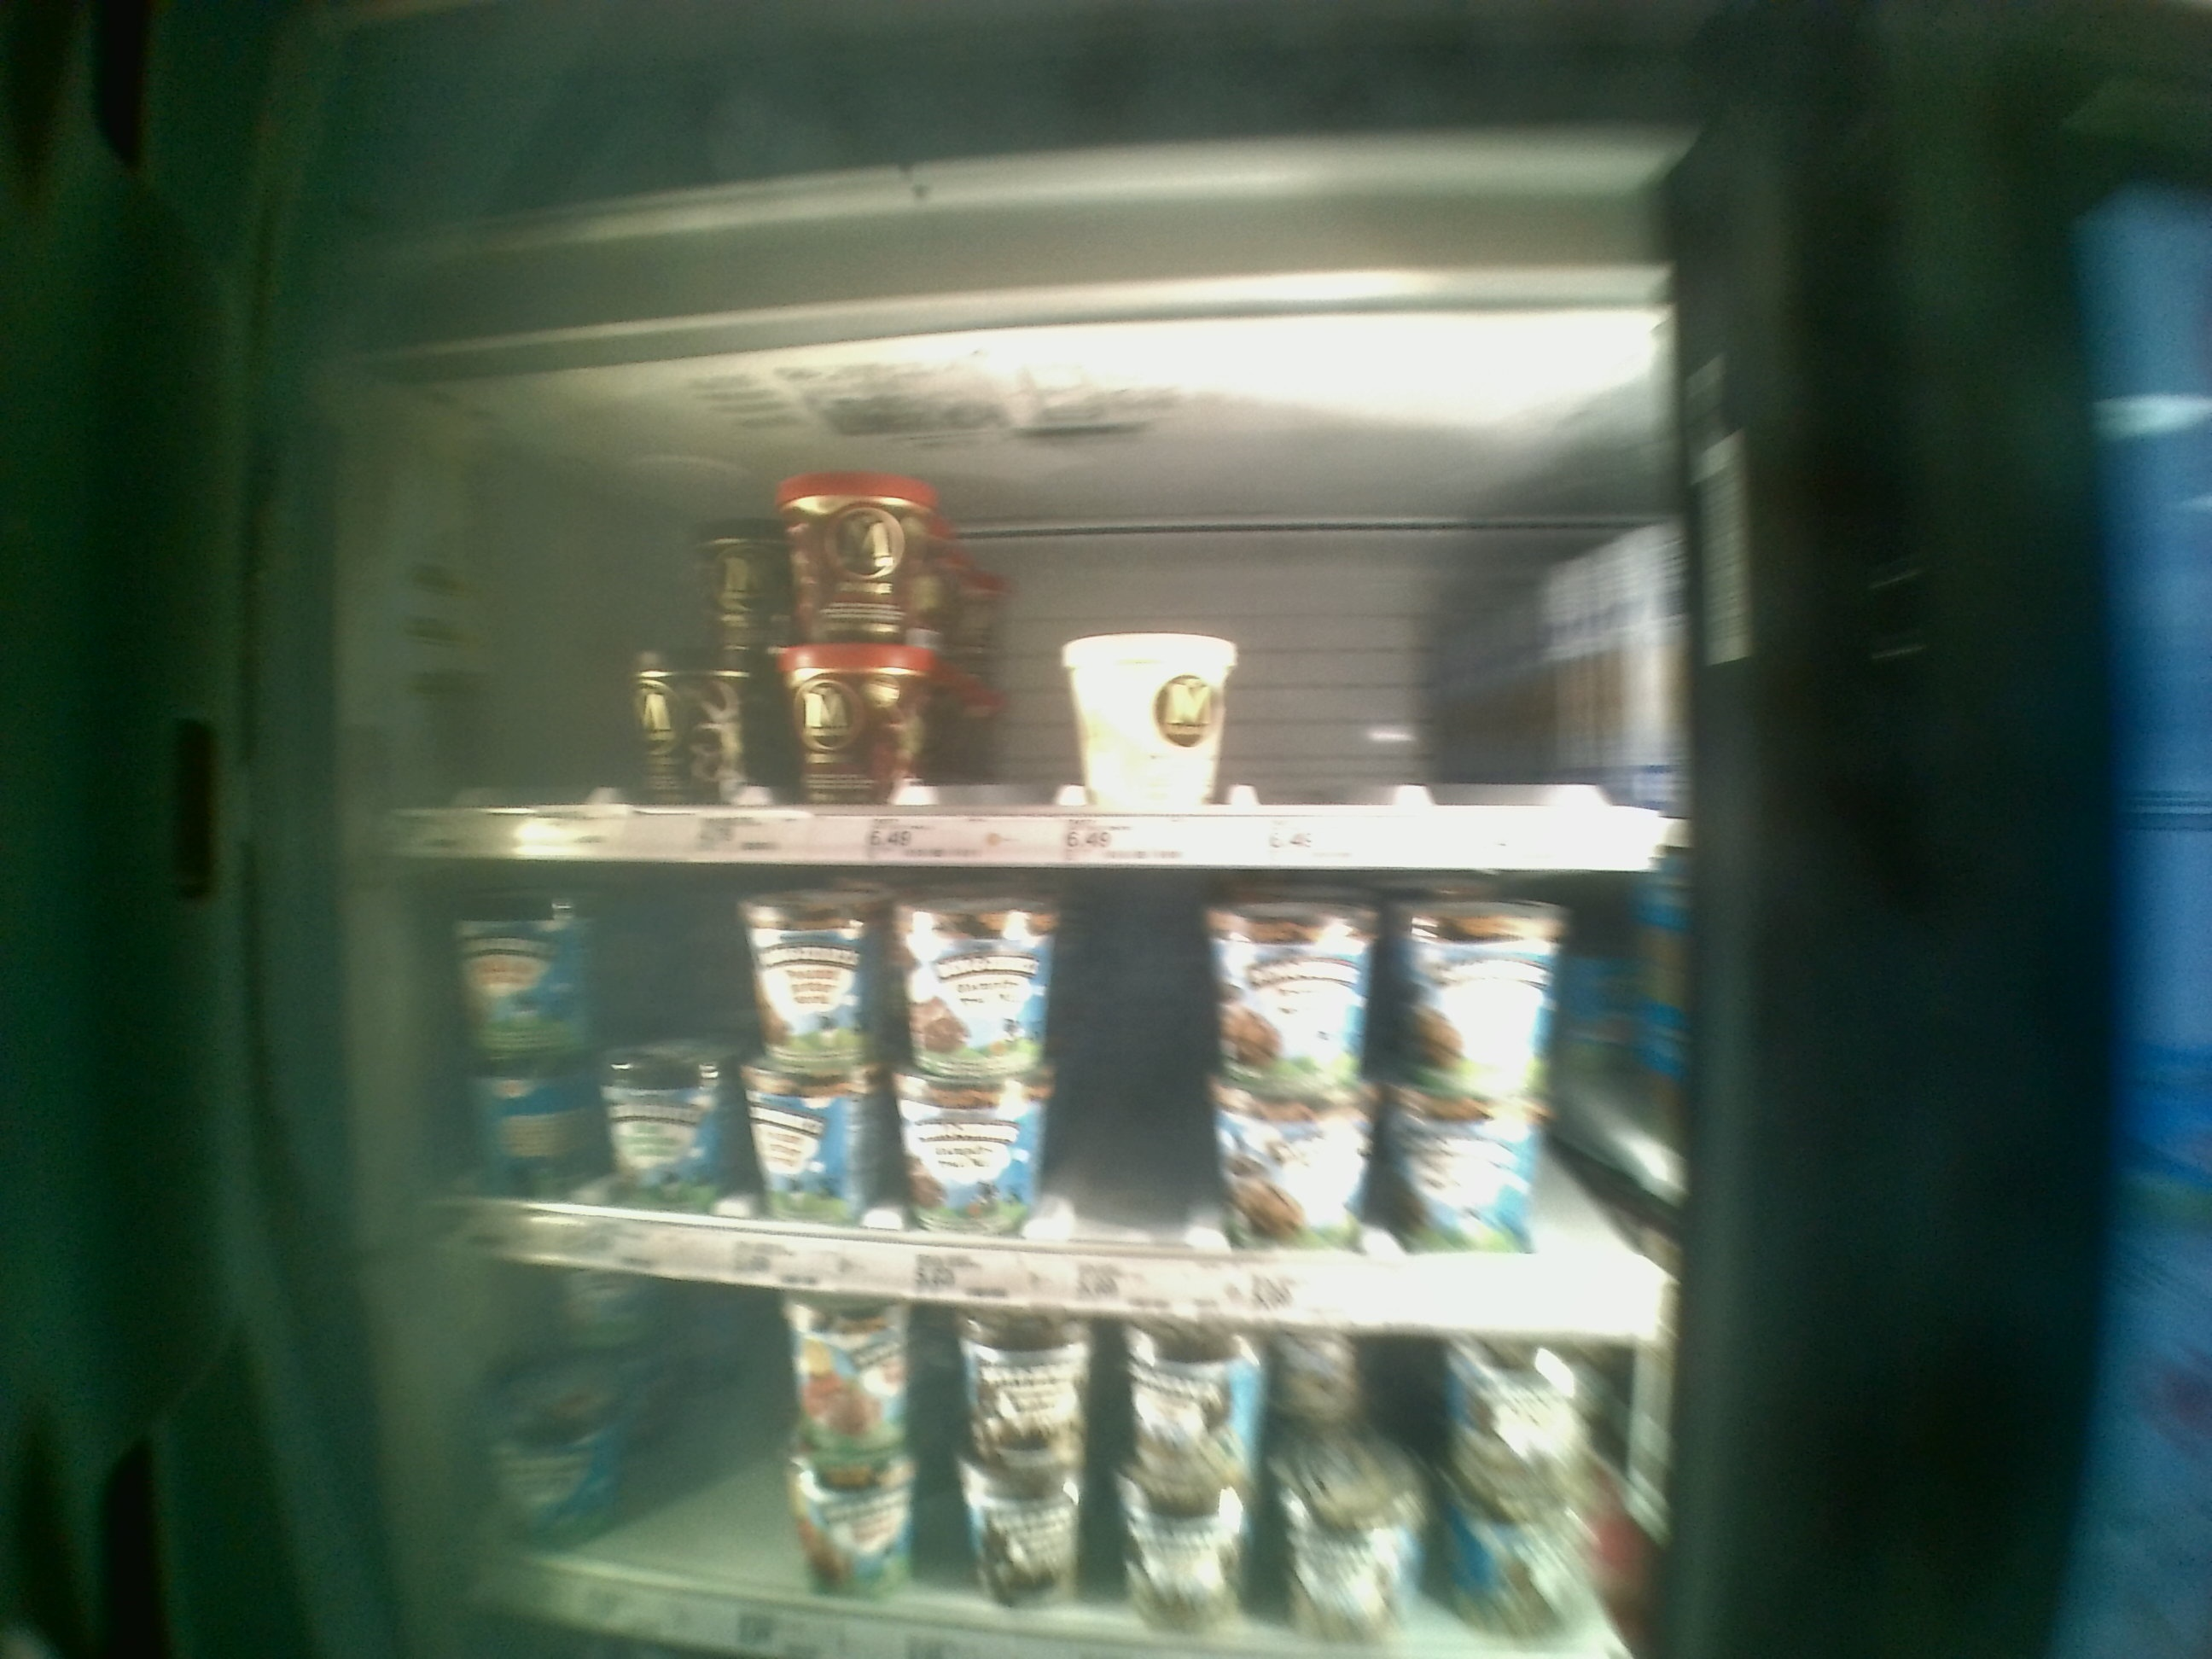ice-cream-shelf: (406, 387, 1681, 864)
